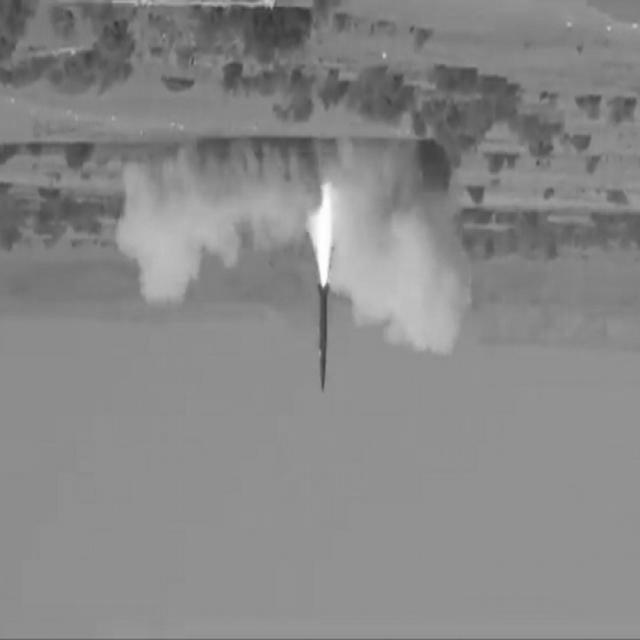missile: (312, 281, 332, 398)
